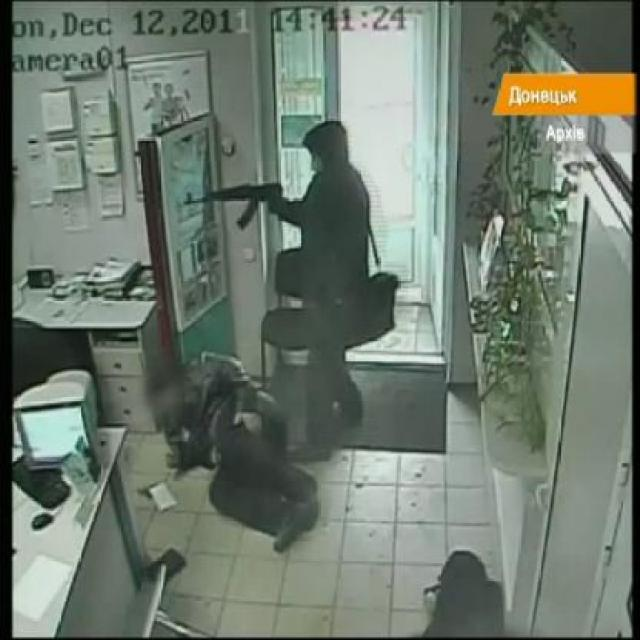weapon: (182, 179, 290, 230)
